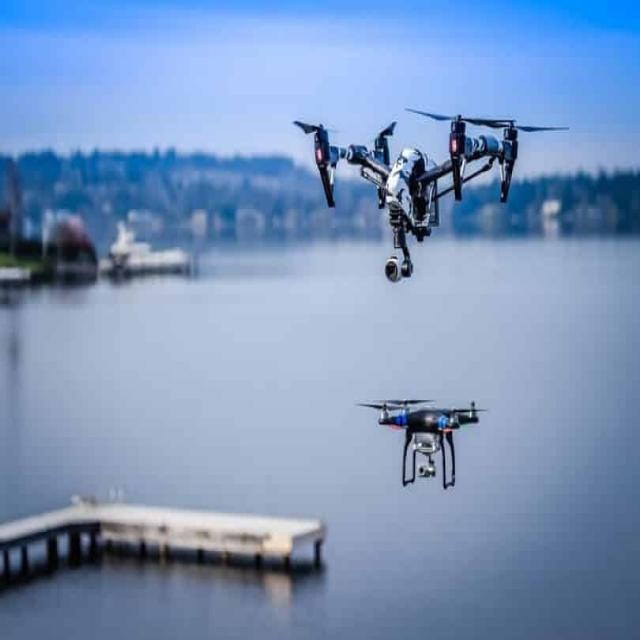drone: (287, 99, 550, 242), (369, 372, 488, 498)
